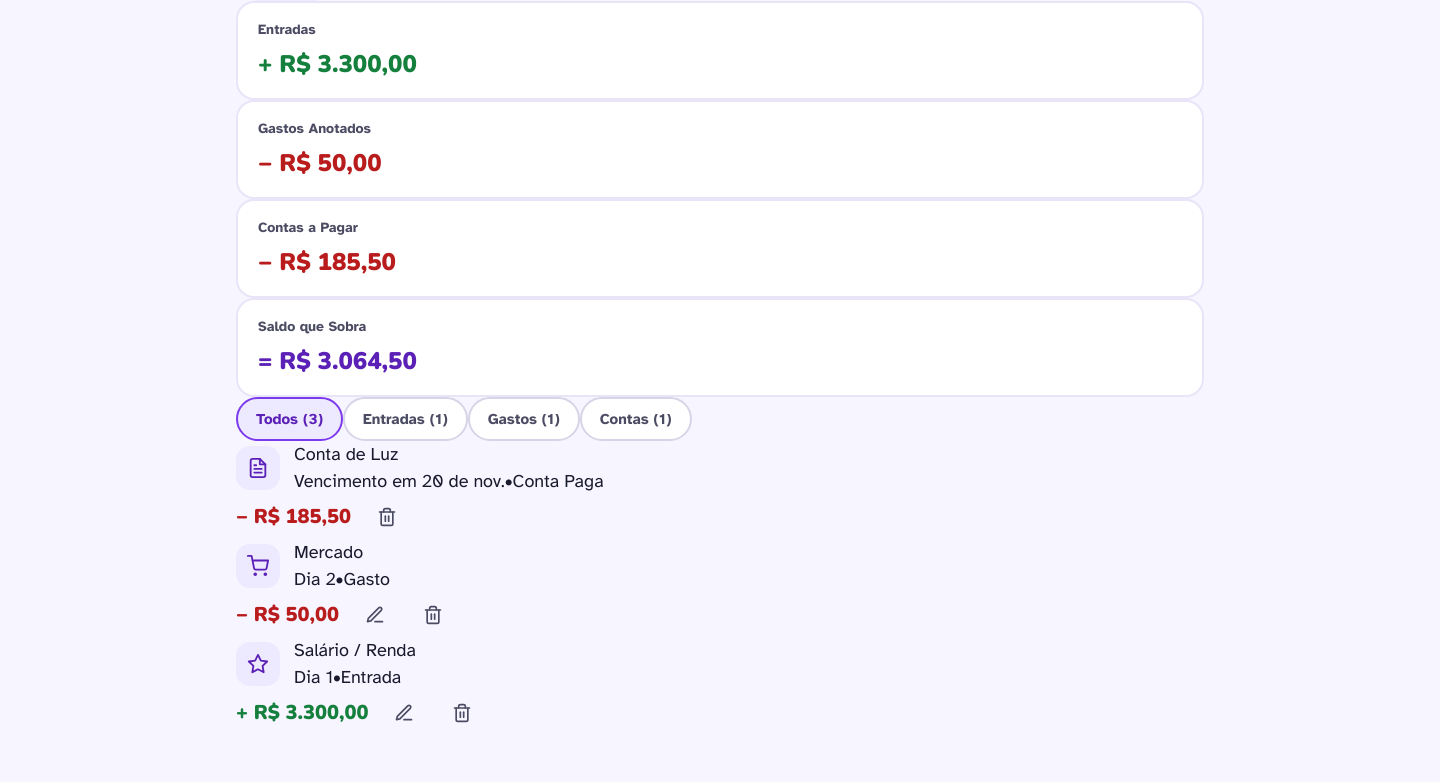
Página Extrato de Movimentações › pede confirmação e apaga o gasto na API
(page scrolled)
Click the button named "apagar gasto de mercado". click: (433, 614)
box: [411,592,455,636]
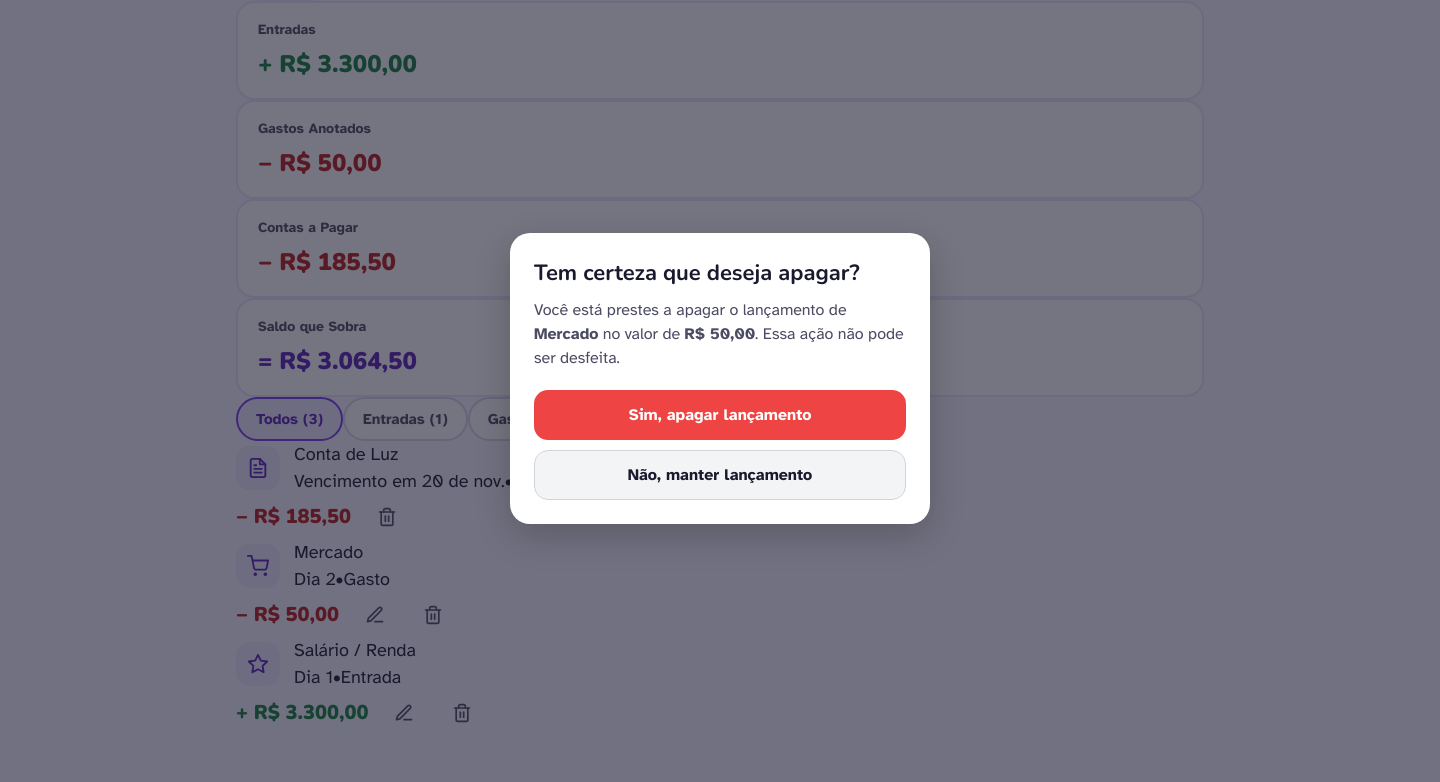
Click the button "Sim, apagar lançamento". click: (720, 414)
box: [534,390,906,440]
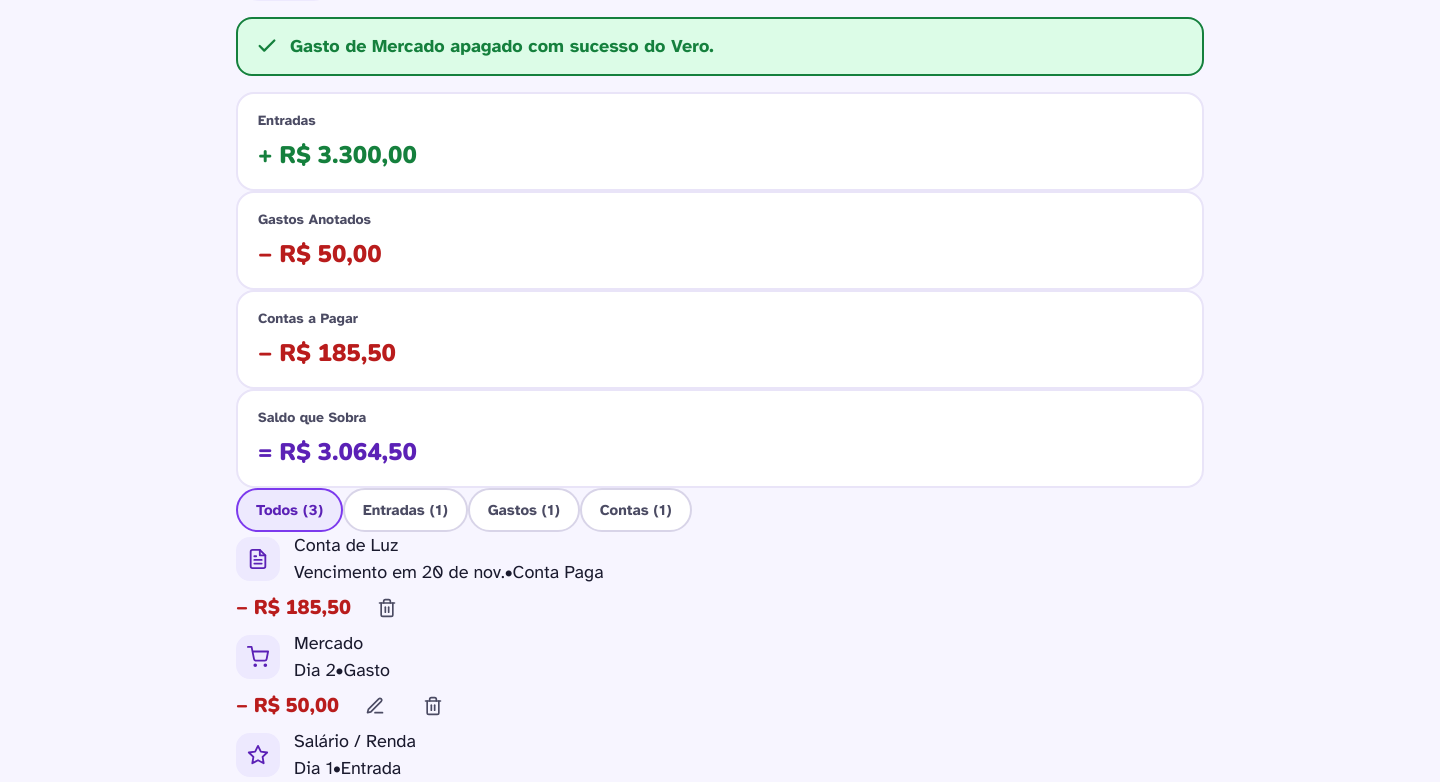
Expected: the text "Gasto de Mercado apagado com sucesso do Vero." is shown, [290,34,714,56]
